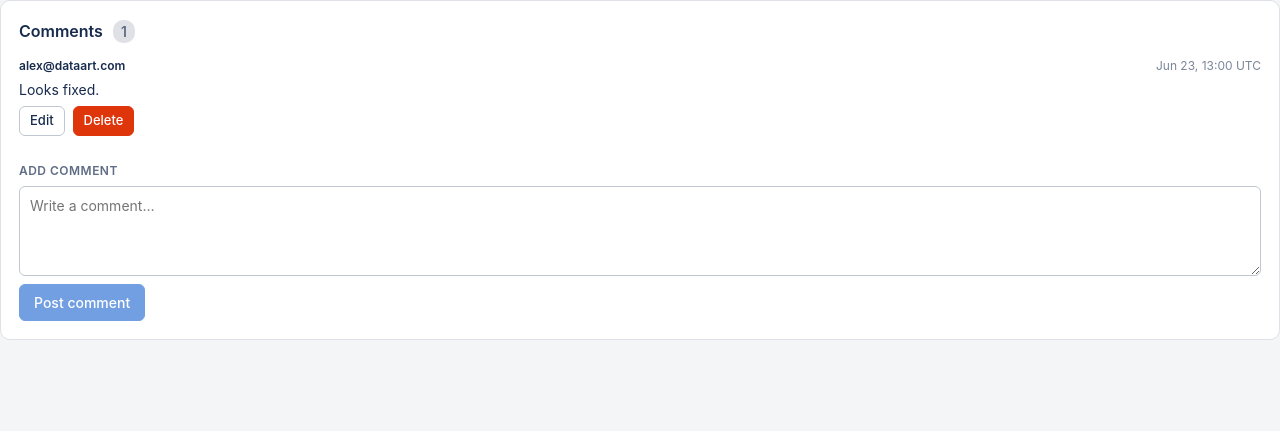
Test case: CommentsPanel — comment edit/delete (F-12) › edits a comment inline and PUTs the new body, then reflects it after refetch
Expected: the text "Looks fixed." is shown, [19,81,99,98]
Click the button "Edit" at [42, 121], box [19,106,65,136]
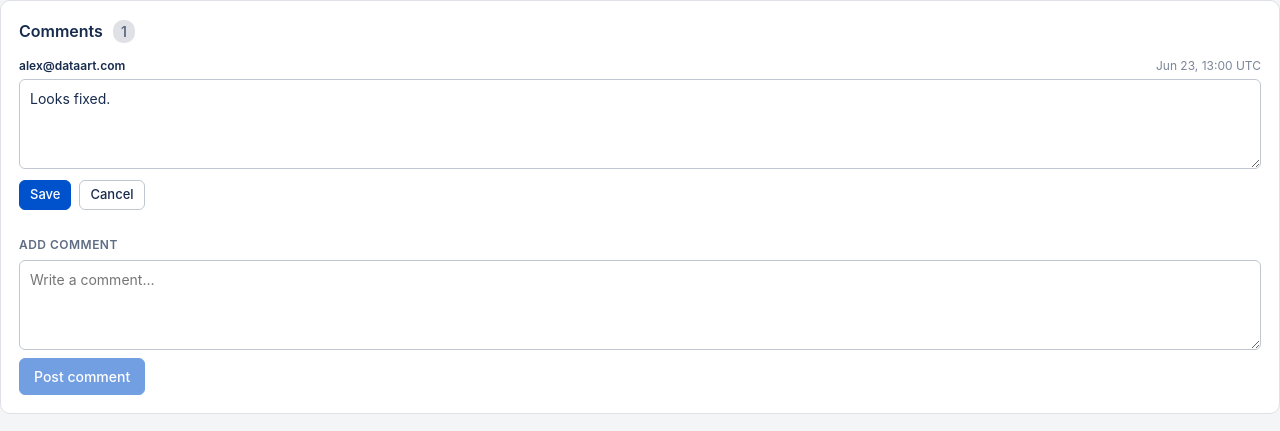
Replace the text in the text box named "Edit comment" with "Actually still broken on Safari." at [640, 124], box [19,79,1261,169]
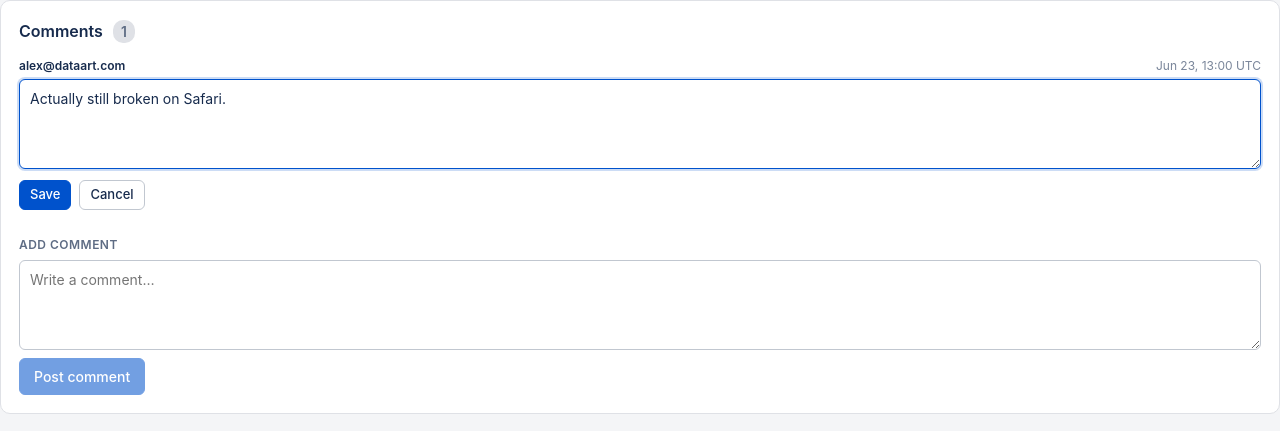
Click the button "Save" at [45, 195], box [19,180,71,210]
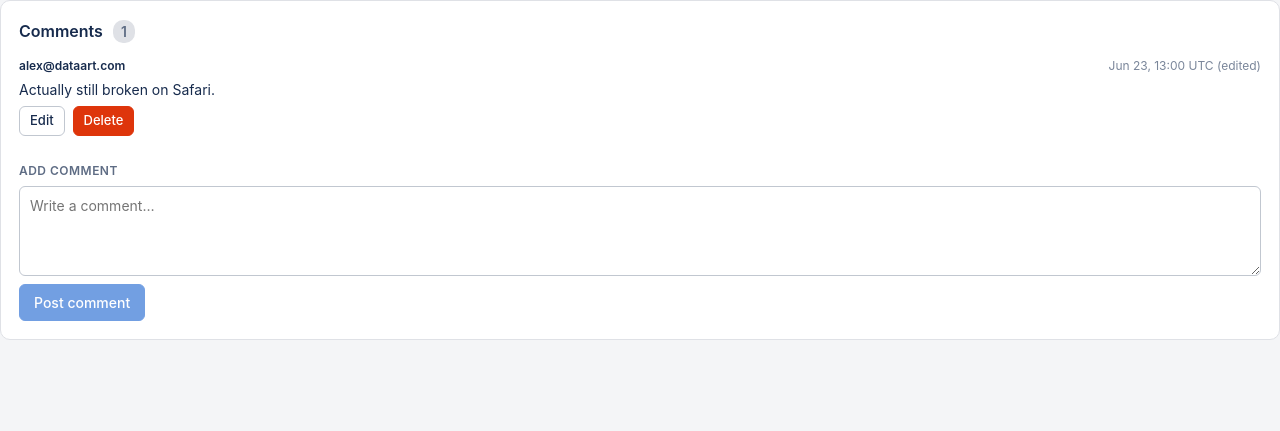
Expected: the text "Actually still broken on Safari." is shown, [19,81,215,98]
Expected: the text "(edited)" is shown, [1214,58,1261,73]
